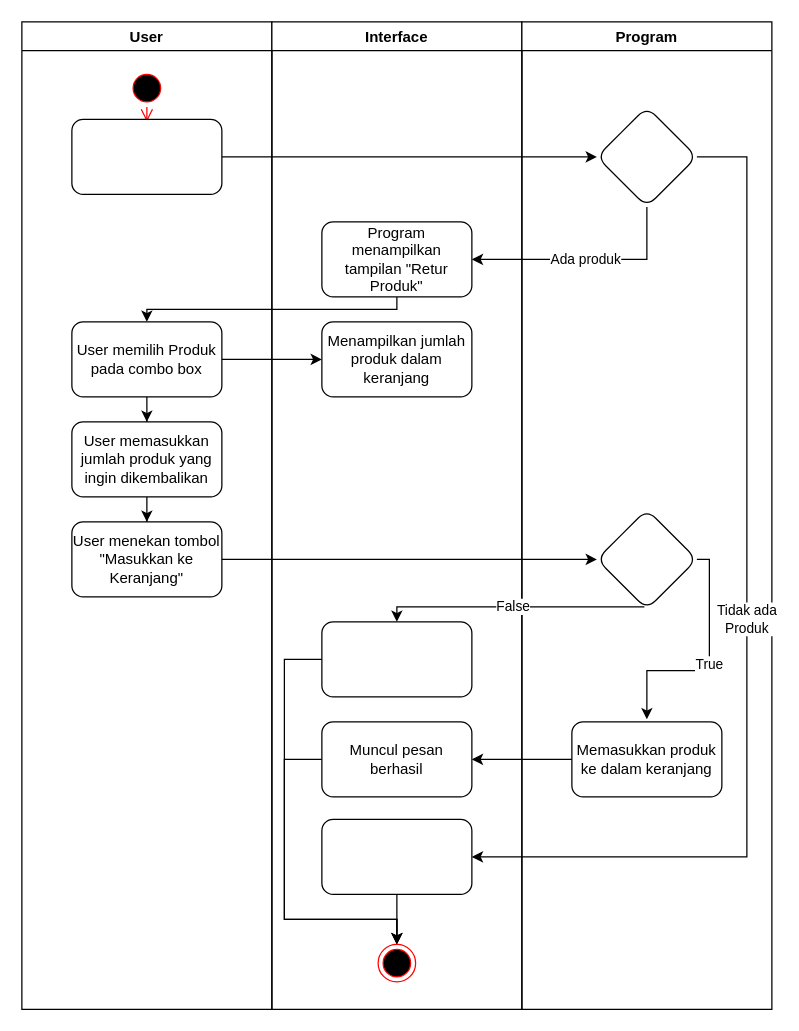
Image size: 799x1031. Some labels were removed from this diagram. Each missing label, with the centre of its shape:
Menampilkan pesan bahwa tidak produk dalam keranjang: point 396,856
Muncul pesan bahwa input tidak tepat: point 396,659
User menekan tombol "Retur Produk": point 146,156
Validasi input: point 646,558
Validasi Keranjang: point 646,156
